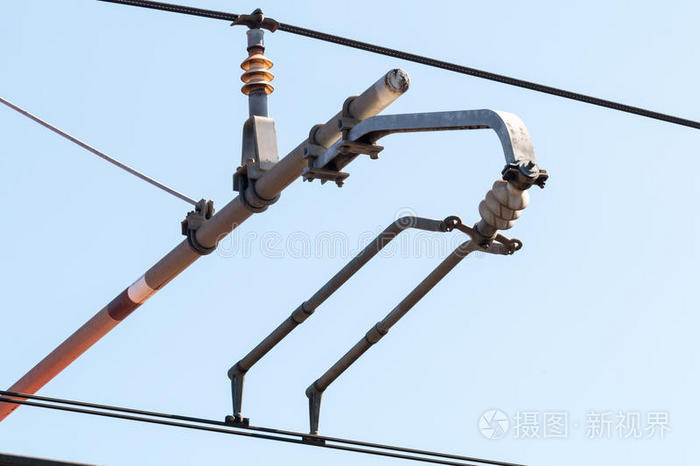insulator: (478, 179, 533, 231), (238, 51, 280, 96)
